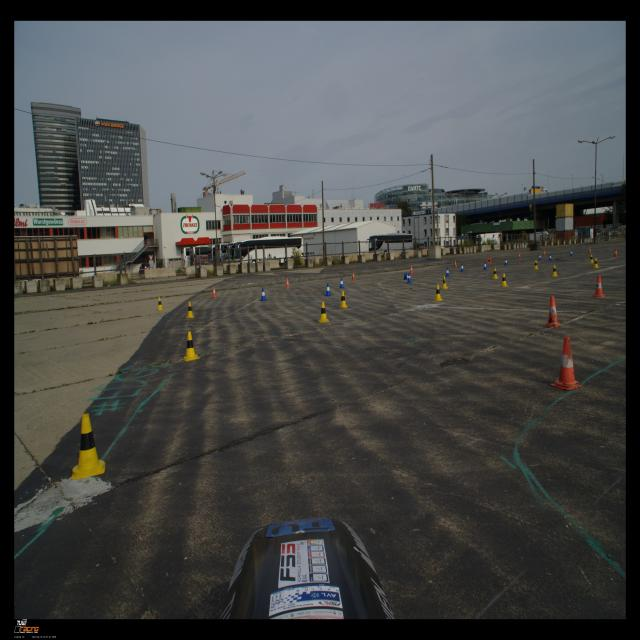blue_cone: (324, 283, 332, 296), (260, 288, 267, 301), (339, 278, 345, 288), (406, 273, 412, 283), (404, 272, 411, 280), (460, 263, 465, 272), (445, 268, 450, 276), (483, 261, 487, 270), (504, 258, 508, 266), (548, 253, 552, 260), (538, 254, 542, 260), (570, 250, 573, 256)
orange_cone: (550, 336, 584, 390), (543, 296, 562, 327), (592, 275, 606, 298), (211, 286, 218, 298), (612, 248, 618, 257), (285, 278, 290, 288), (351, 270, 355, 280), (454, 260, 458, 268), (410, 265, 413, 273), (588, 247, 592, 253), (543, 250, 546, 256), (518, 252, 521, 258), (488, 258, 491, 263)
yellow_cone: (71, 414, 105, 479), (182, 331, 200, 361), (317, 301, 330, 323), (433, 284, 443, 301), (185, 302, 195, 318), (339, 291, 348, 308), (156, 297, 165, 311), (499, 273, 508, 287), (550, 264, 559, 276), (441, 275, 448, 289), (492, 267, 498, 279), (593, 258, 599, 268), (533, 260, 539, 270), (589, 254, 594, 263)
